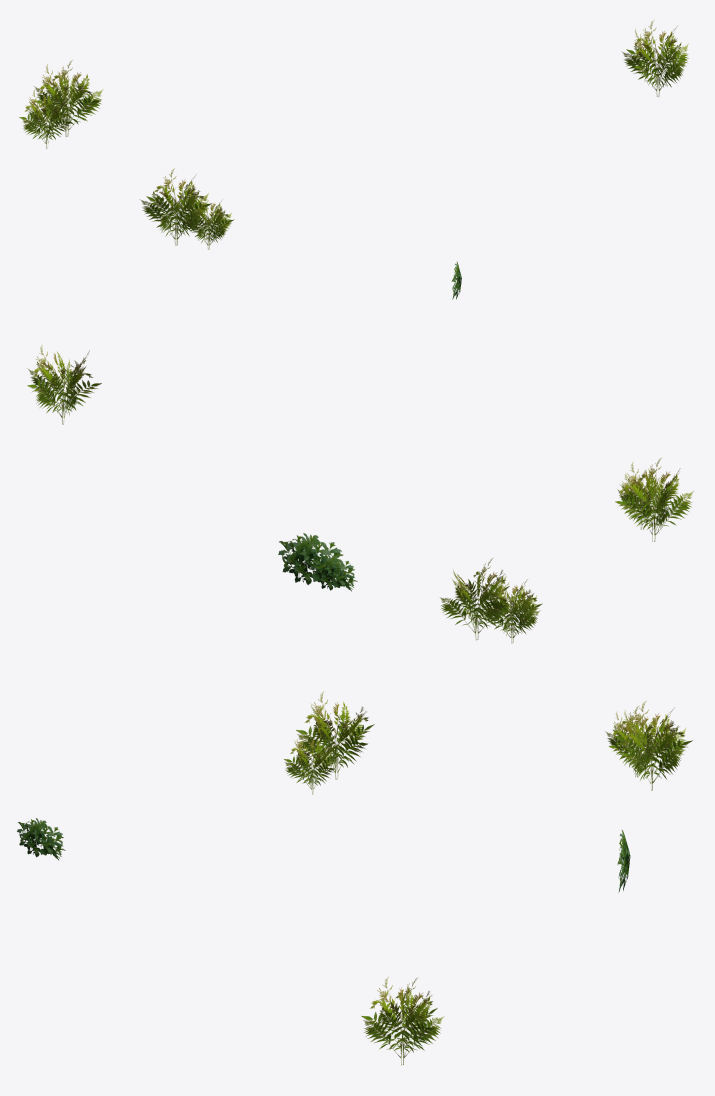
The model's file is rome_farmstead_plants.glb.
The picture shows the model from 3 angles, top to bottom: view 1: azimuth 30°, elevation 25°; view 2: azimuth 150°, elevation 25°; view 3: azimuth 270°, elevation 25°; orthographic projection. The views are drawn at different scales.
Visible parts, largest first — view 1: rome_farm_plants; view 2: rome_farm_plants; view 3: rome_farm_plants.
Boxes of the visible parts, x1,y1,x2,y2 form: rome_farm_plants: (19,20,688,299); rome_farm_plants: (27,344,693,643); rome_farm_plants: (17,691,692,1065).
Bounding box in the file's own units: 21.65 × 2.66 × 18.95.
1 material, 1 textured.
